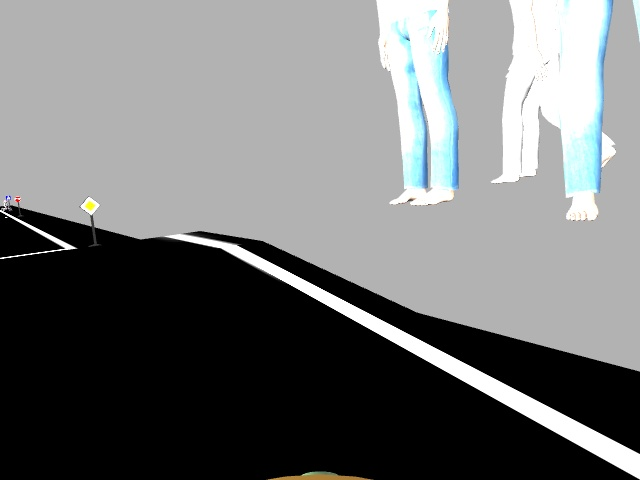Priority: (77, 194, 101, 215)
